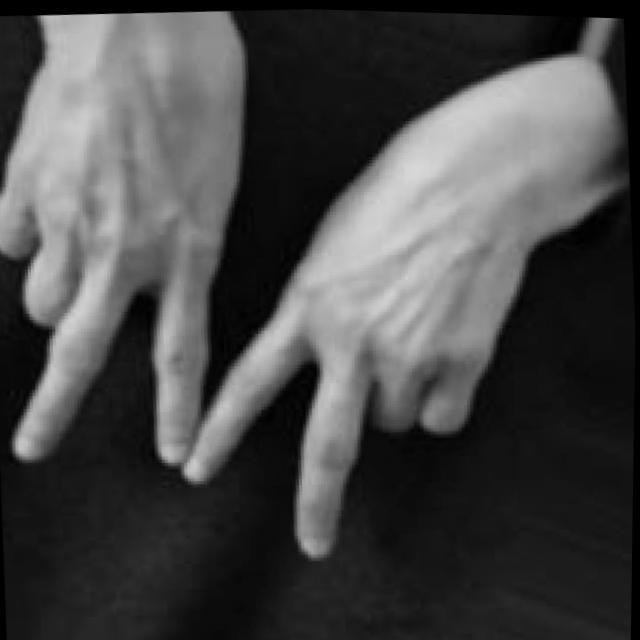M: (0, 0, 557, 591)
